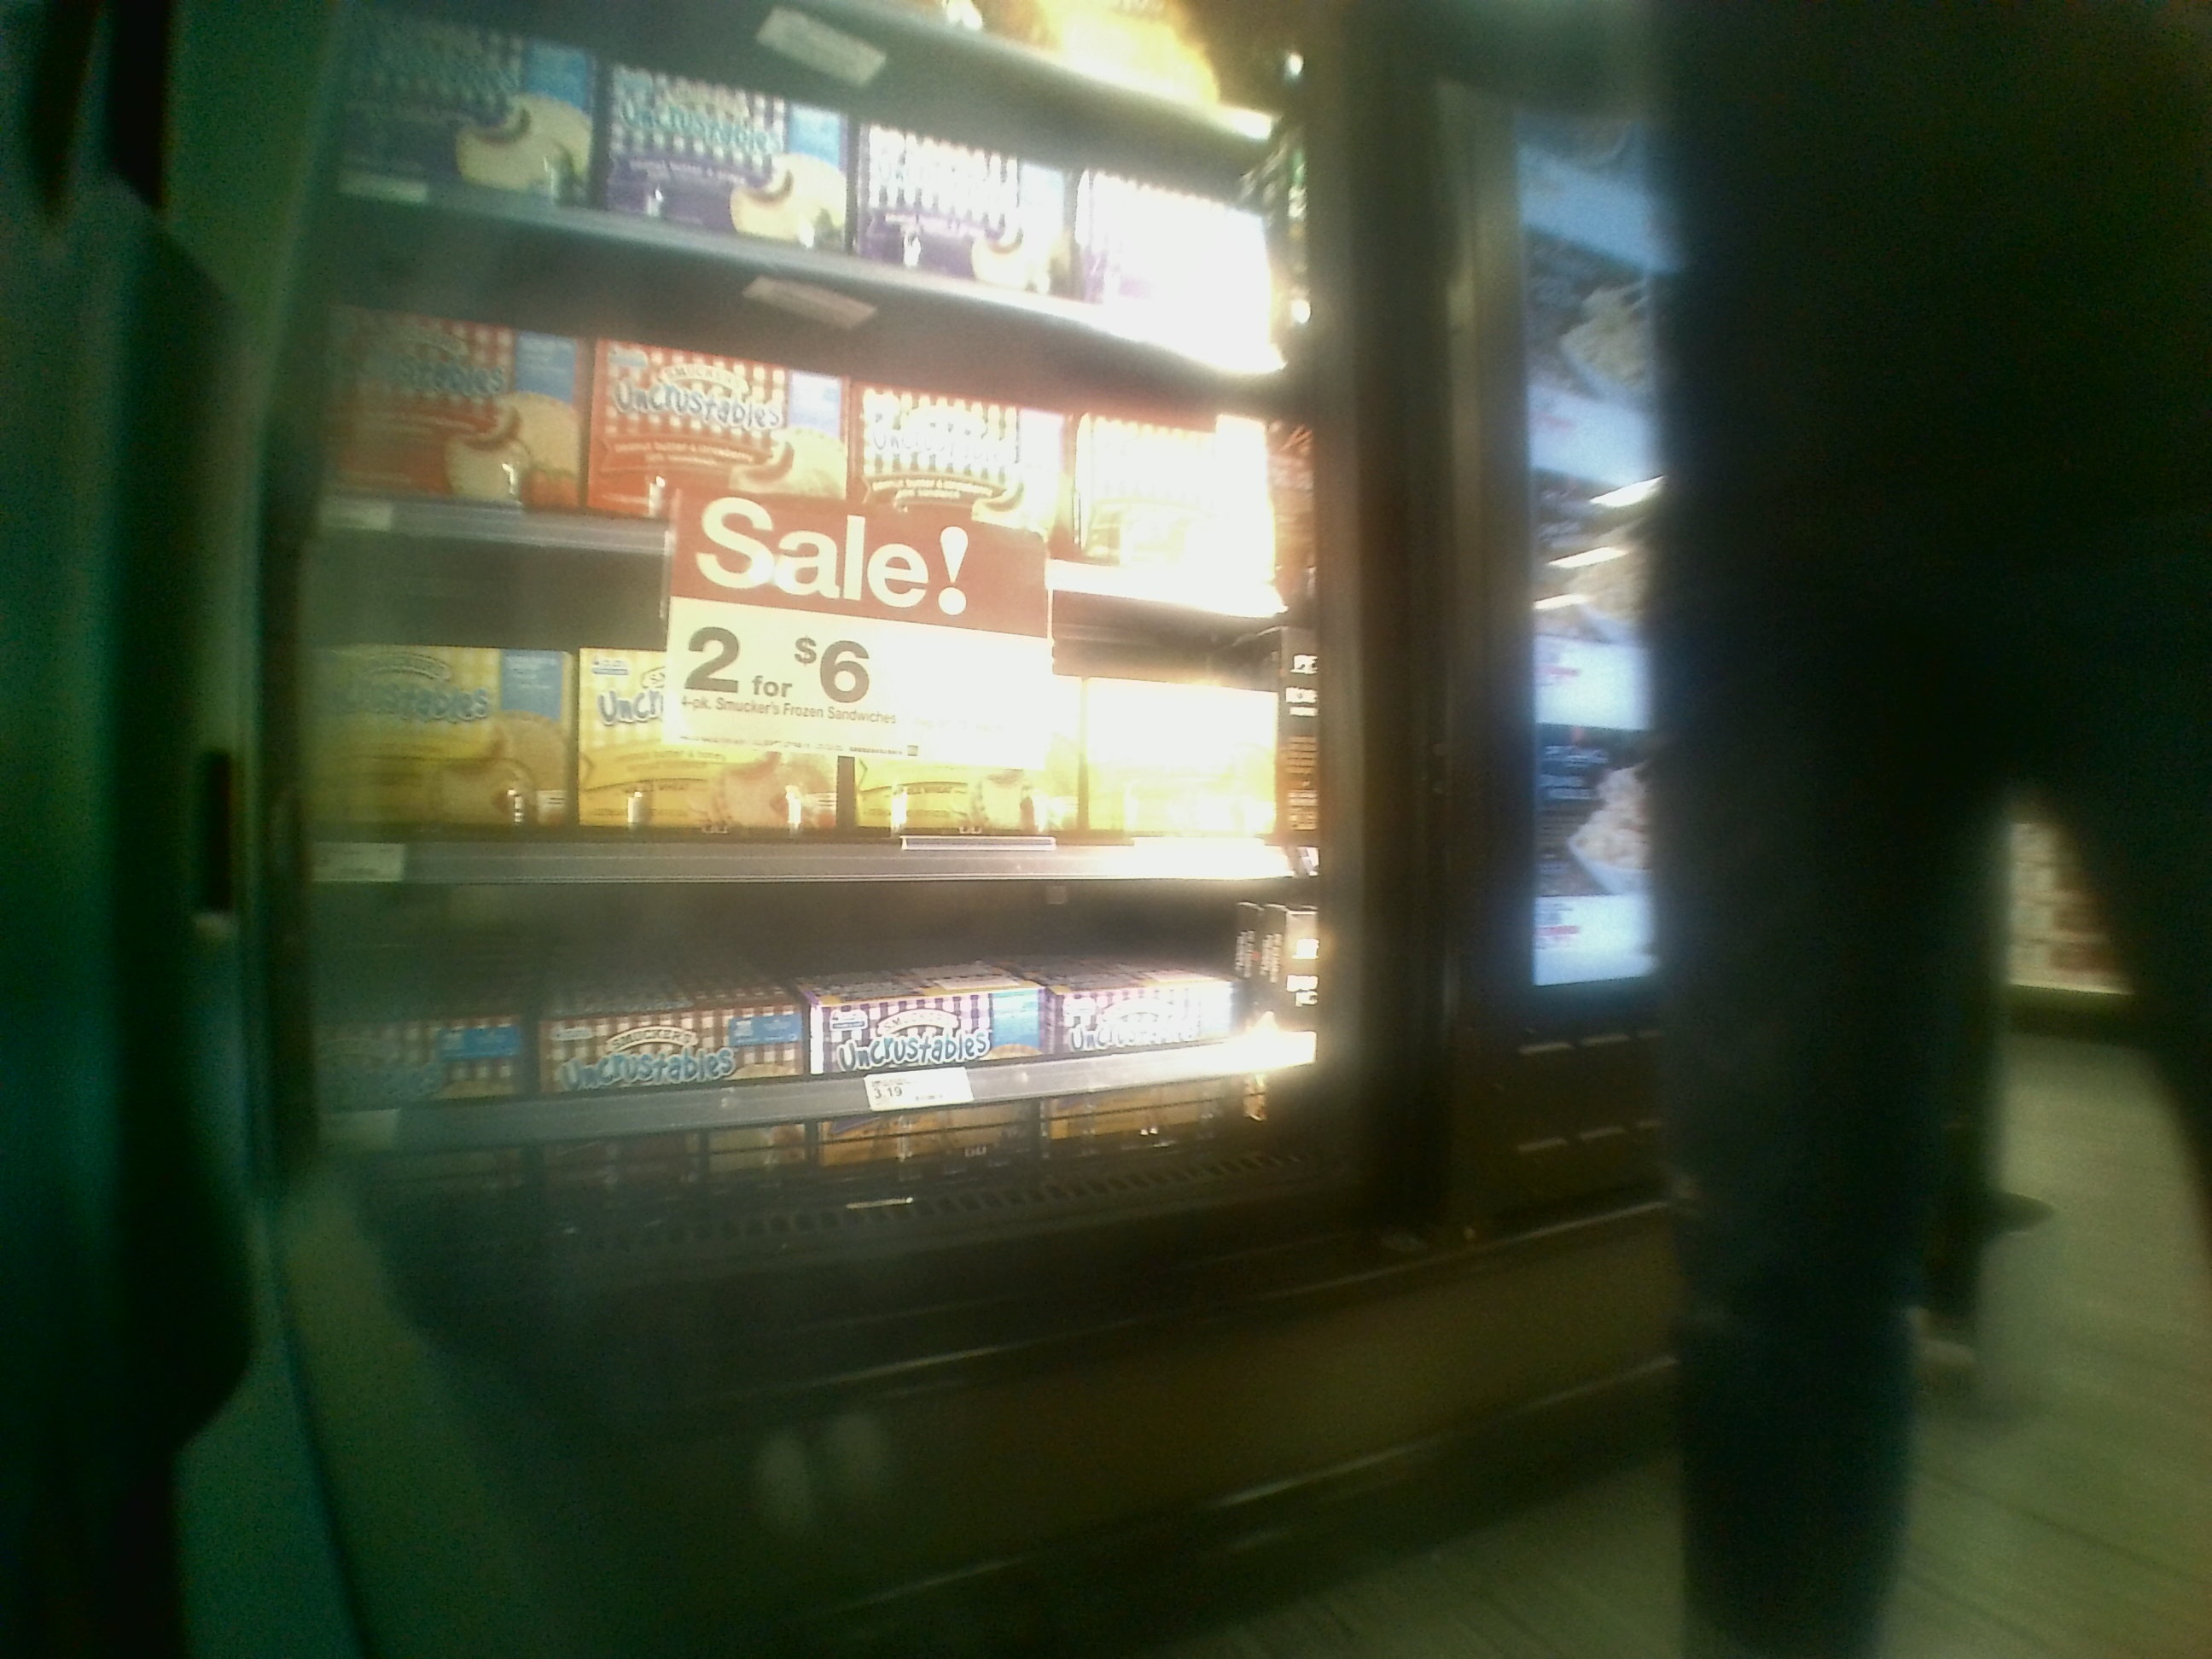shelf: (303, 863, 1350, 1248), (303, 532, 1339, 878)
